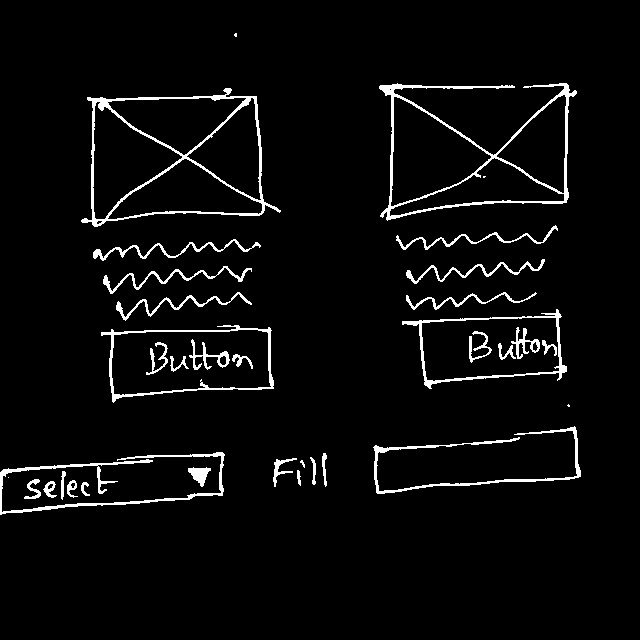button: (414, 313, 572, 387), (105, 331, 276, 396)
image: (384, 84, 570, 215), (83, 92, 267, 219)
input: (371, 426, 588, 496)
paragraph: (91, 244, 267, 317), (397, 228, 553, 305)
select: (1, 452, 224, 516)
